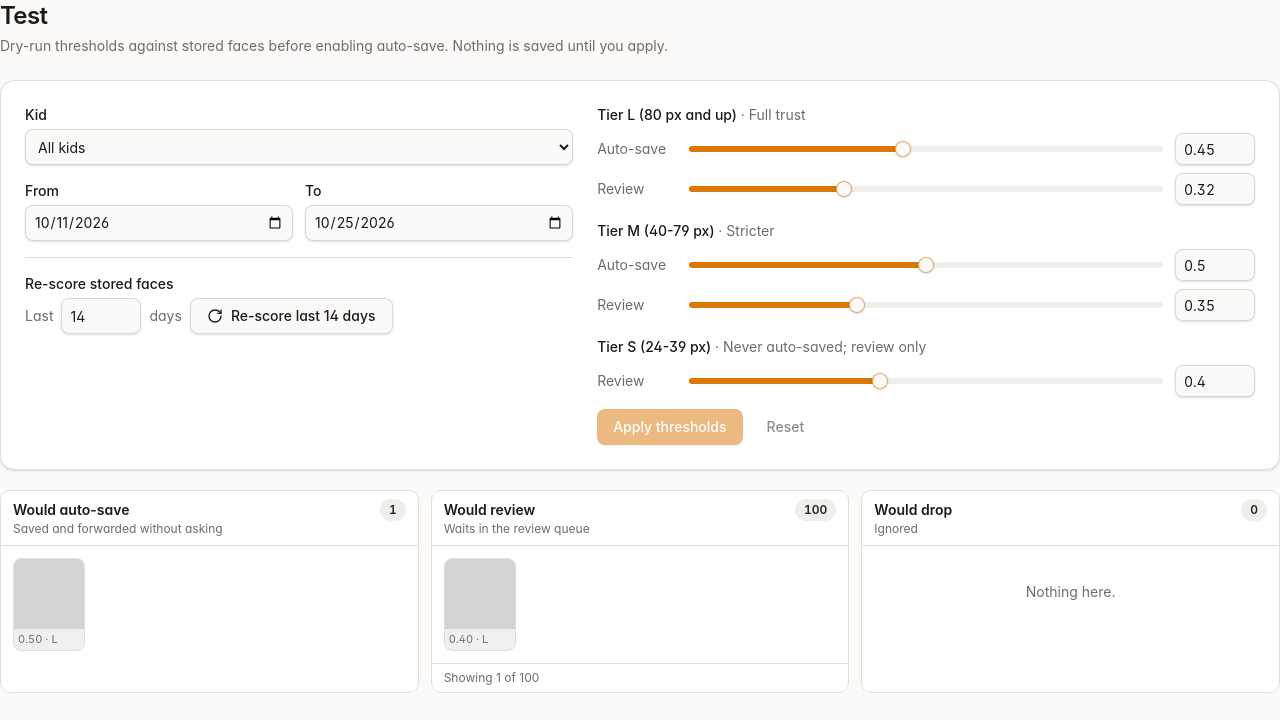
Test: TestPage › re-scores the last N days after a confirm
Expected: the element "Would review" is shown, [431,490,849,693]
Click the button "Re-score last 14 days".
click(291, 316)  # box [190,298,392,334]
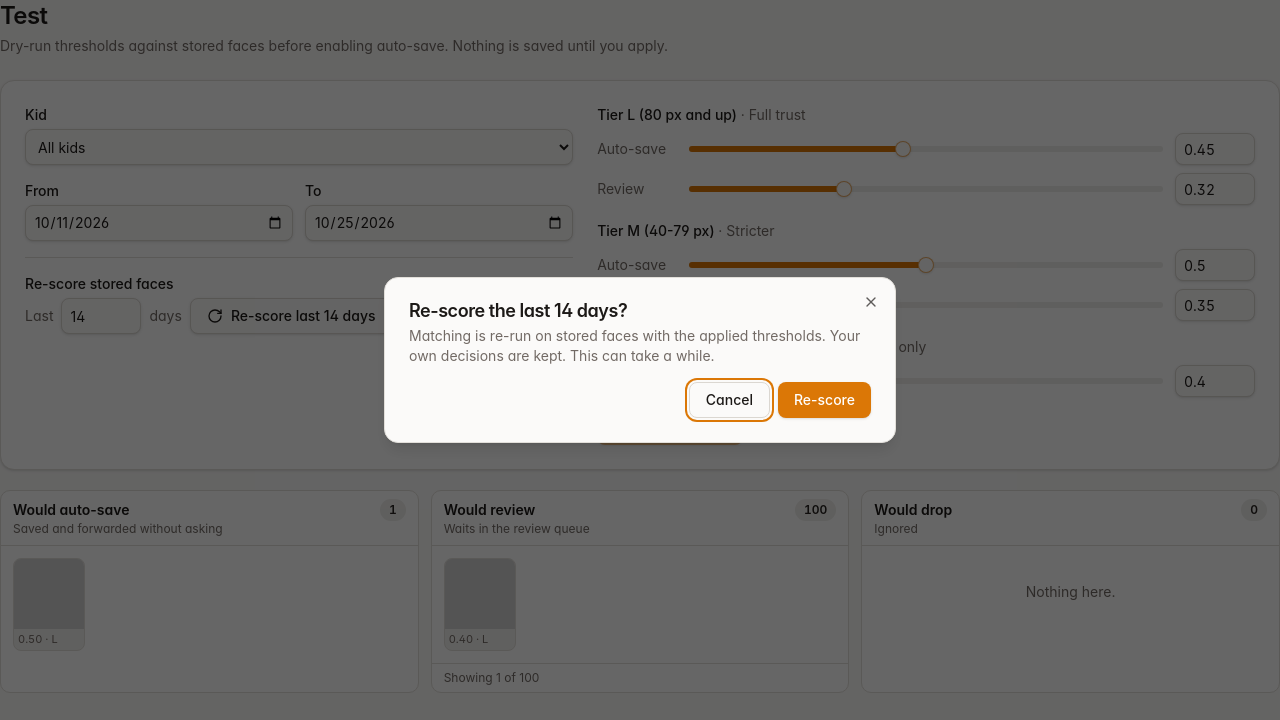
Click the button "Re-score".
click(824, 400)  # box [778,382,871,418]
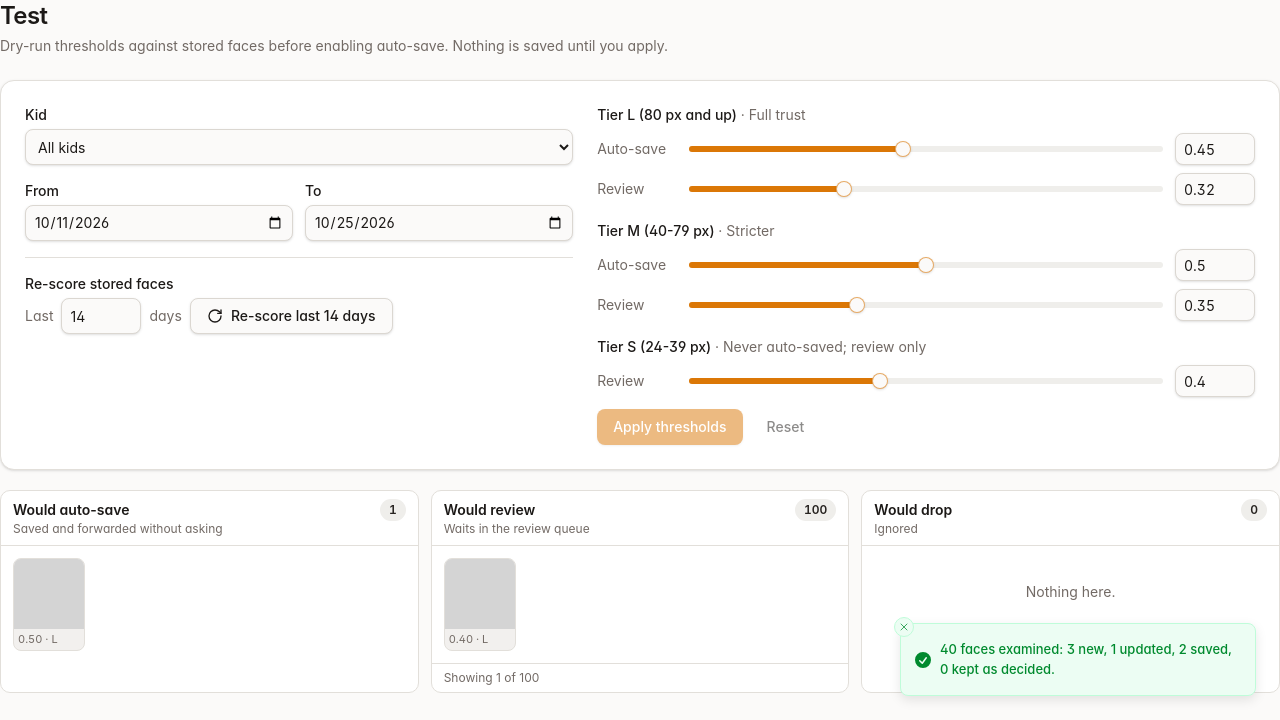
Expected: the text "40 faces examined" is shown, [940,641,1232,676]
